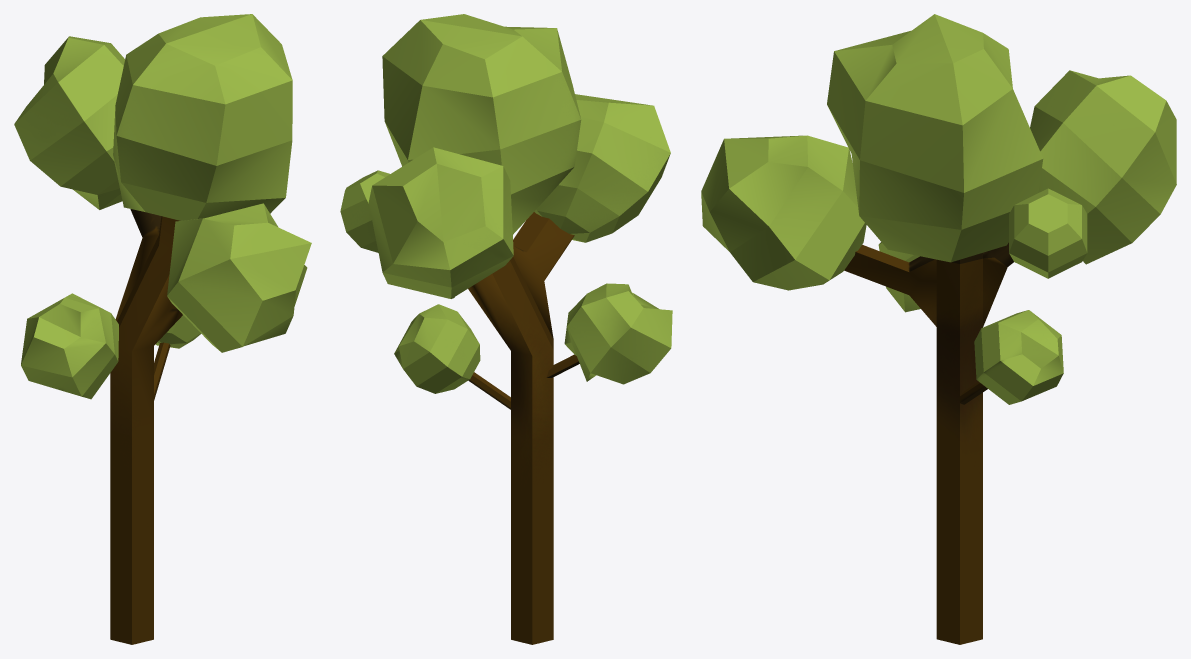
Rendered from tree_03_exp 1.fbx.
3 views of the same model, side by side, from view 1: azimuth 30°, elevation 25°; view 2: azimuth 150°, elevation 25°; view 3: azimuth 270°, elevation 25° (orthographic). The views are drawn at different scales.
Visible parts, largest first — view 1: tree_03; view 2: tree_03; view 3: tree_03.
Boxes of the visible parts, x1,y1,x2,y2 form: tree_03: (14,14,311,644); tree_03: (340,14,672,644); tree_03: (701,14,1176,644).
Size of the model in its own units: 12.73 by 26.04 by 17.78.
